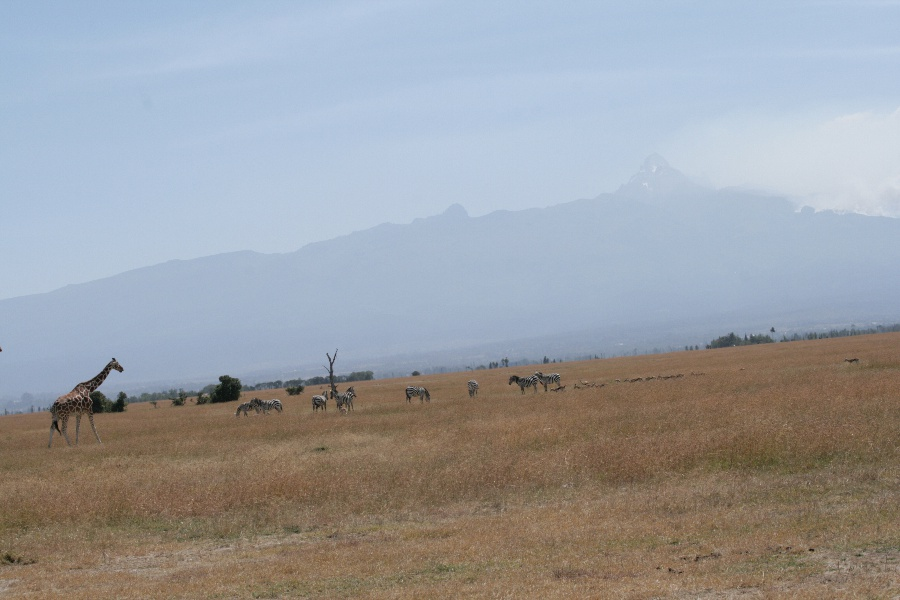giraffe: (40, 351, 126, 454)
